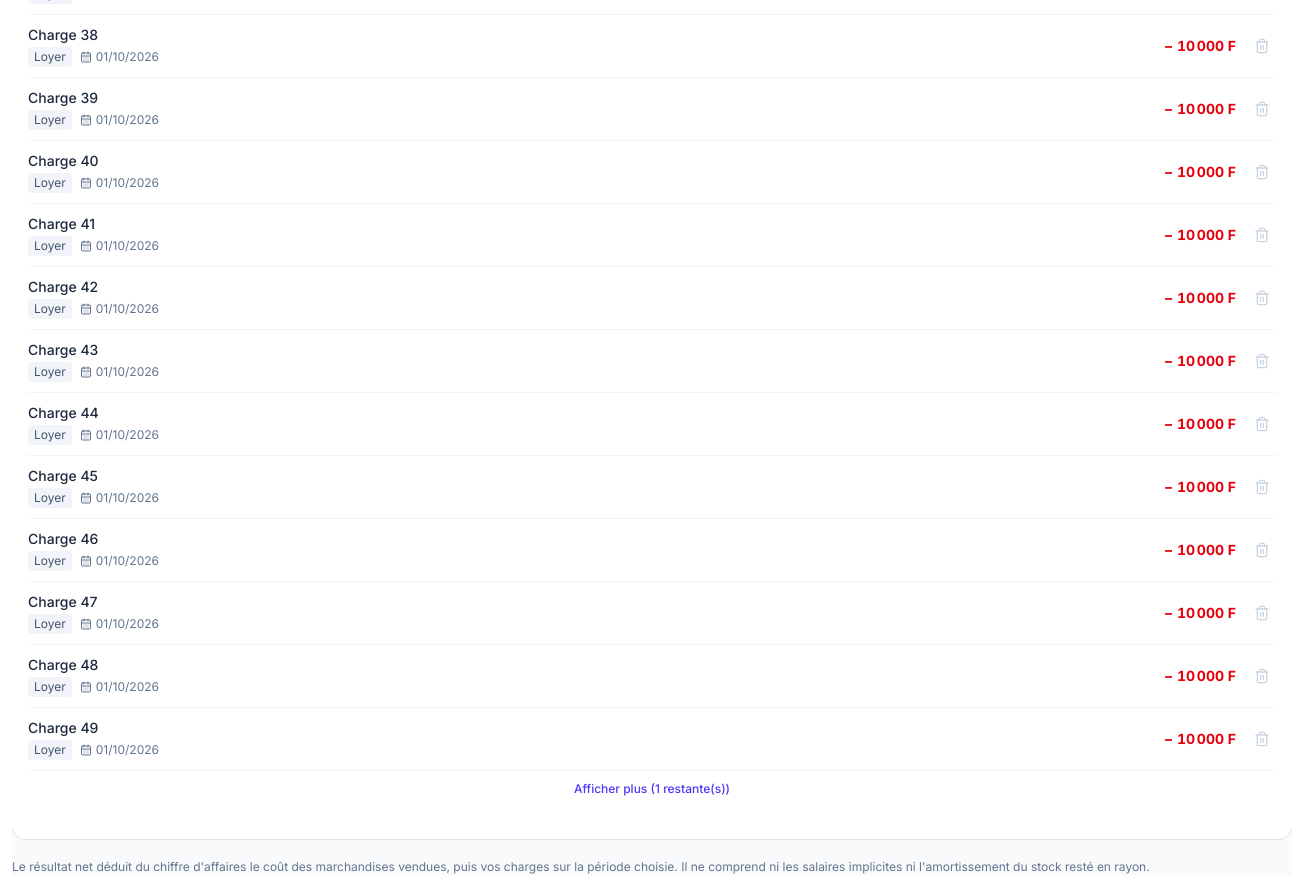
Test: ExpensesModule — saisie › pagine la liste au-delà de 50 lignes
The image size is (1292, 875).
(page scrolled)
Click the button "Afficher plus (1 restante(s))" at (652, 789), box x1=28 y1=771 x2=1276 y2=807
(page scrolled)
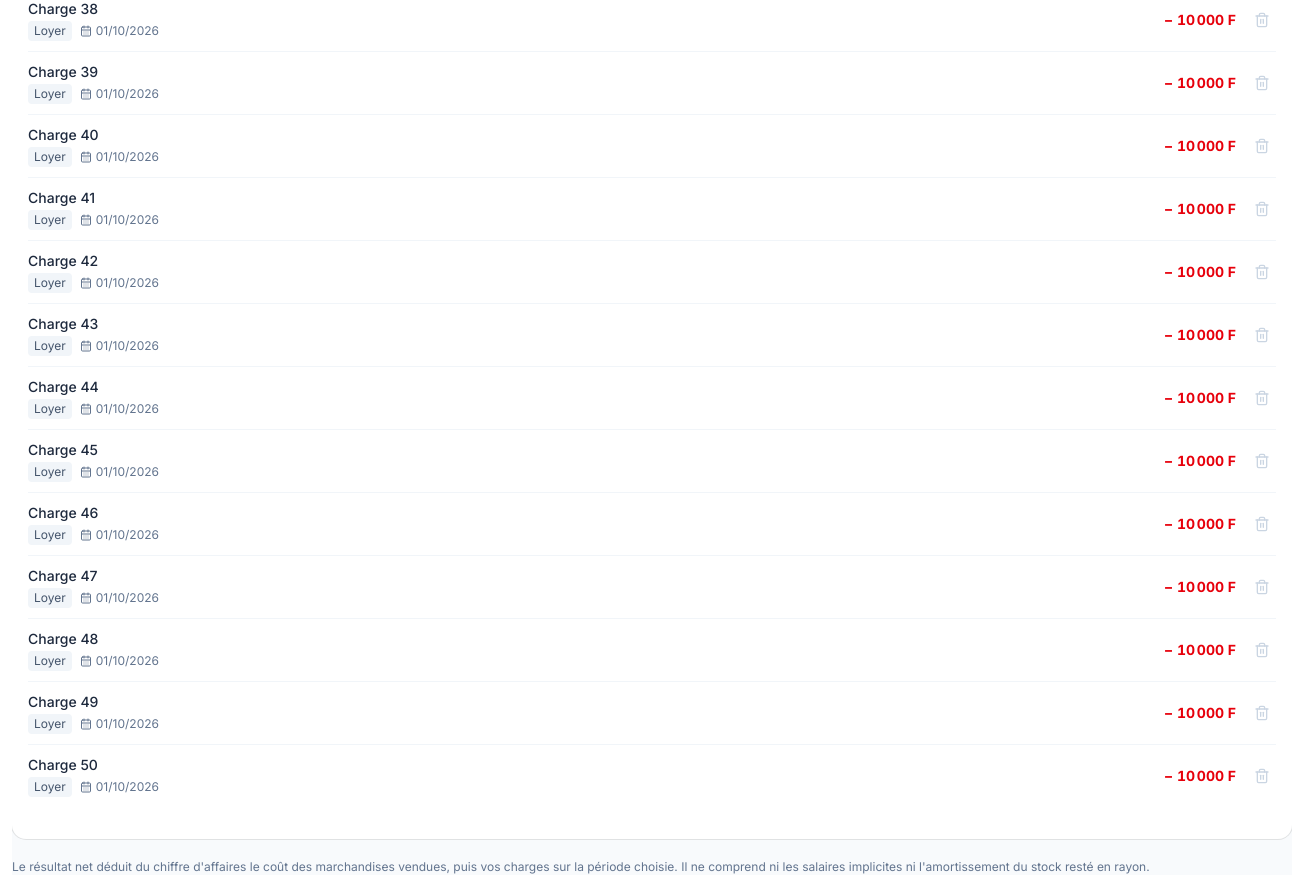
Now the text "Charge 50" is shown, box x1=28 y1=756 x2=98 y2=773
